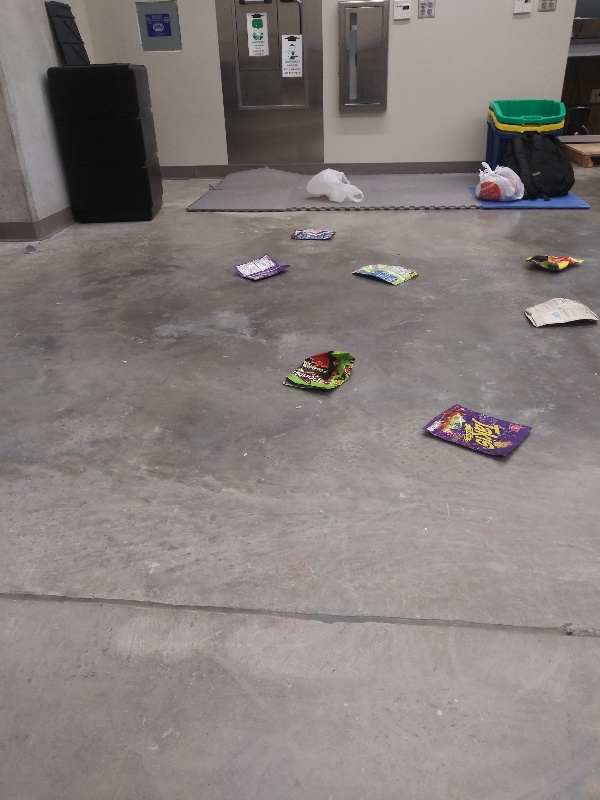bag: (419, 402, 531, 464), (283, 348, 360, 395), (519, 294, 600, 331), (233, 252, 296, 288), (350, 263, 421, 286), (521, 250, 591, 272), (290, 224, 340, 247)
